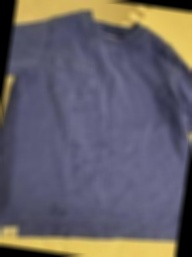oil: (70, 154, 89, 178), (67, 102, 85, 116)
